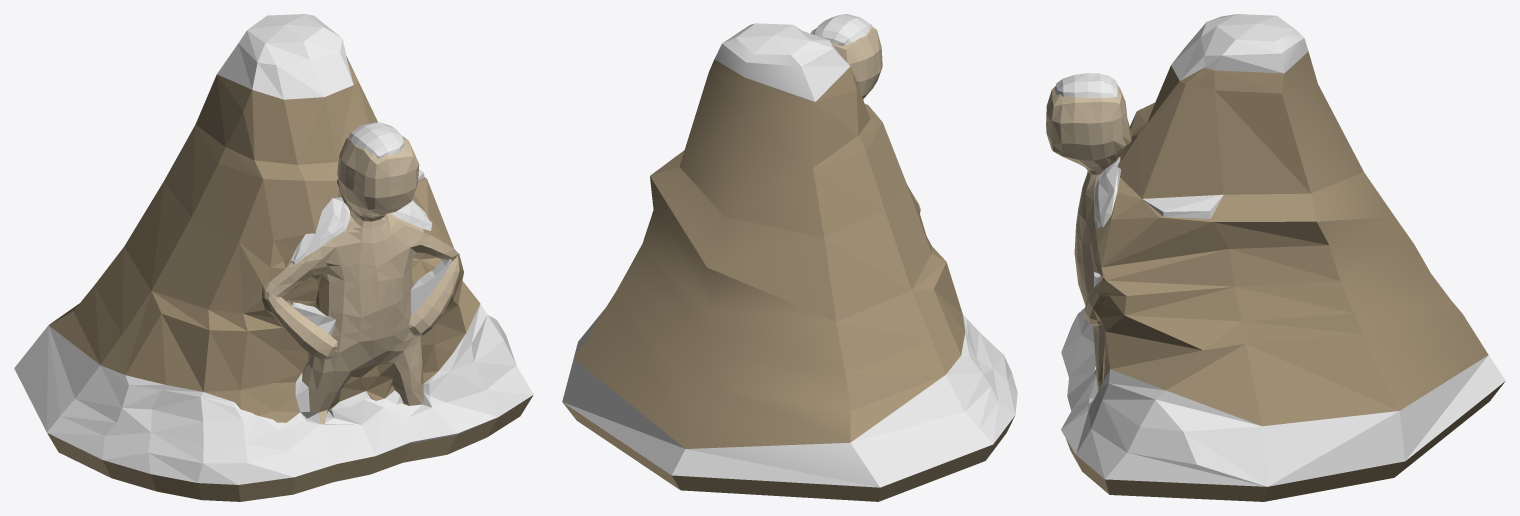
File: DarkSandStoneDecorationLargeStatueMountain1.fbx
3 renders of one model, left to right at view 1: azimuth 30°, elevation 25°; view 2: azimuth 150°, elevation 25°; view 3: azimuth 270°, elevation 25°, orthographic. The views are drawn at different scales.
Visible parts, largest first — view 1: DarkSandStoneDecorationLargeStatueMountain1; view 2: DarkSandStoneDecorationLargeStatueMountain1; view 3: DarkSandStoneDecorationLargeStatueMountain1.
Part boxes in pixels (x1,y1,x2,y2): DarkSandStoneDecorationLargeStatueMountain1: (14, 14, 533, 501); DarkSandStoneDecorationLargeStatueMountain1: (562, 14, 1017, 501); DarkSandStoneDecorationLargeStatueMountain1: (1046, 14, 1505, 501).
Size of the model in its own units: 4435 by 4044 by 4041.
